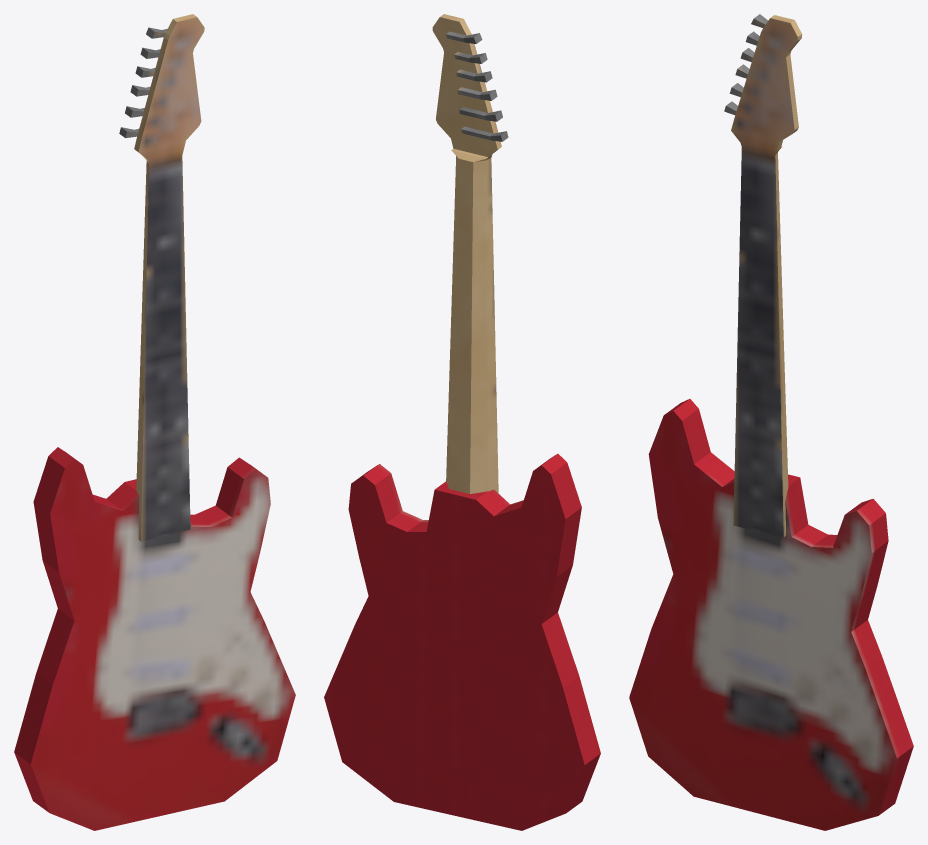
File: int_guitar_red.fbx
The picture shows the model from 3 angles, left to right: view 1: azimuth 30°, elevation 25°; view 2: azimuth 150°, elevation 25°; view 3: azimuth 330°, elevation 25°; orthographic projection. The views are drawn at different scales.
Parts seen in each view (by area): view 1: electric_guitar.003; view 2: electric_guitar.003; view 3: electric_guitar.003.
Part boxes in pixels (x1,y1,x2,y2): electric_guitar.003: (14,14,295,830); electric_guitar.003: (324,14,600,830); electric_guitar.003: (629,14,913,830).
Bounding box in the file's own units: 64.18 × 184 × 8.4.
